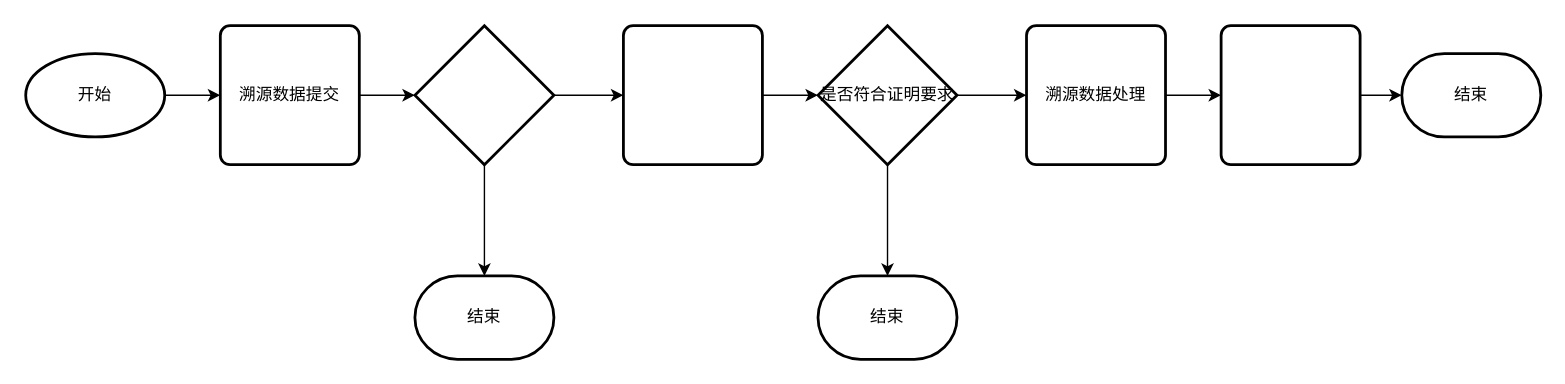
This 1565x384 diagram has some shape labels left out. Here are the shapes that lost their labels. From the top down, the box of each, then its label:
(413, 24, 555, 165): 证明中心是否有权证明
(621, 24, 763, 165): 溯源数据证明
(1219, 24, 1361, 165): 下发证明
